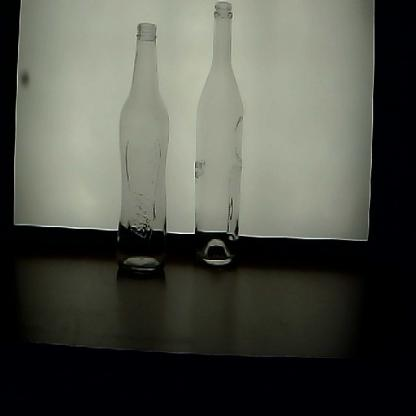Can: (117, 20, 177, 282), (194, 0, 247, 288)
